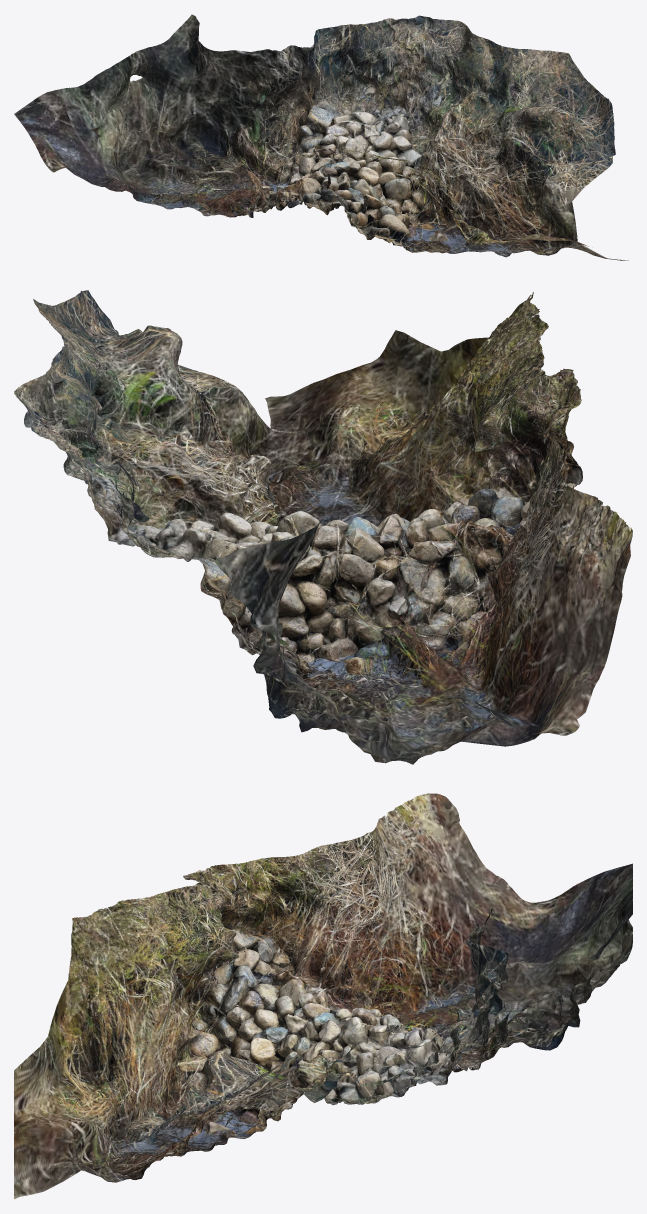
Rendered from Stone_Dams.glb.
3 renders of one model, top to bottom at view 1: azimuth 30°, elevation 25°; view 2: azimuth 150°, elevation 25°; view 3: azimuth 270°, elevation 25°, orthographic. The views are drawn at different scales.
Size of the model in its own units: 2.86 by 0.8494 by 2.74.
Materials: 1 (1 with a texture image).
